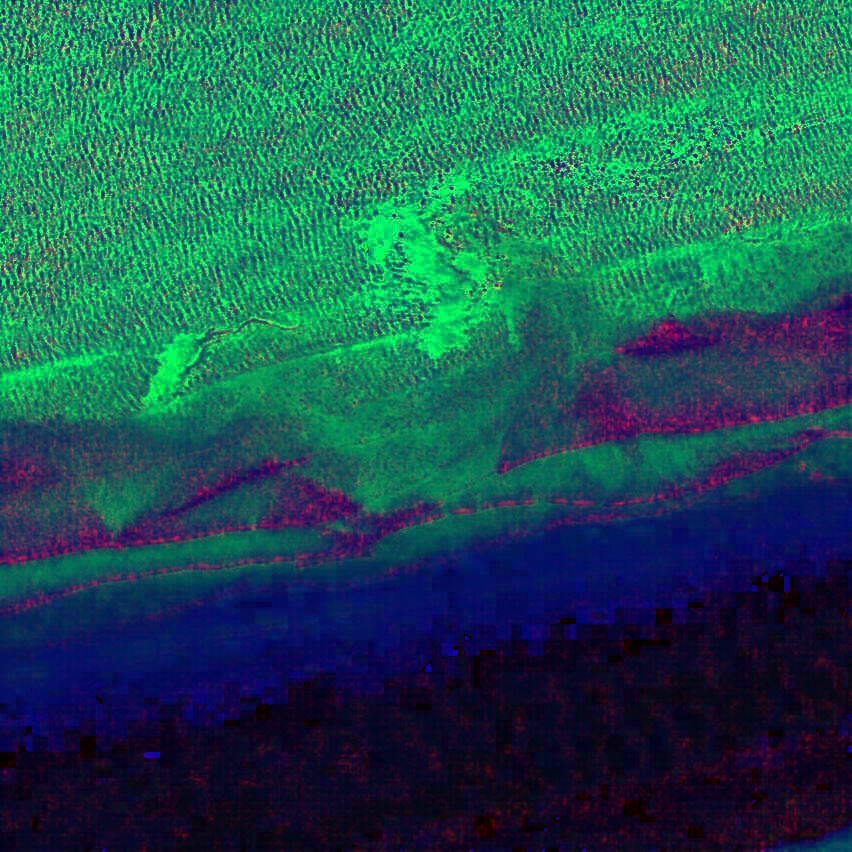rip_current: (299, 192, 559, 553)
